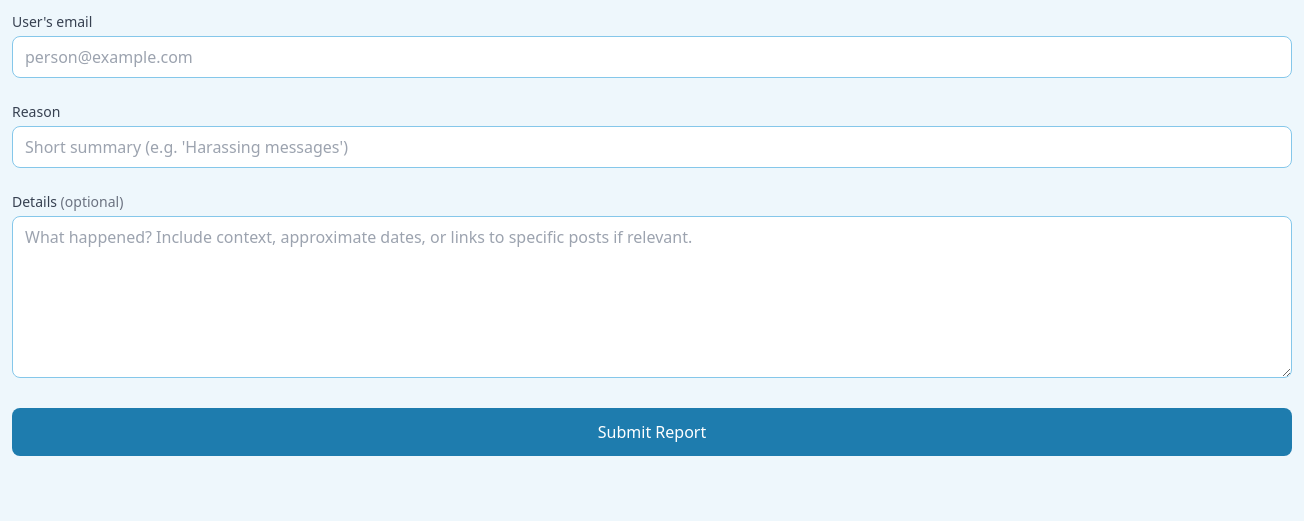
Test: ReportUserForm › shows validation errors for invalid email and missing reason
Type "not-an-email" into the field labelled "User's email". click: (652, 57)
box: [12,36,1292,78]
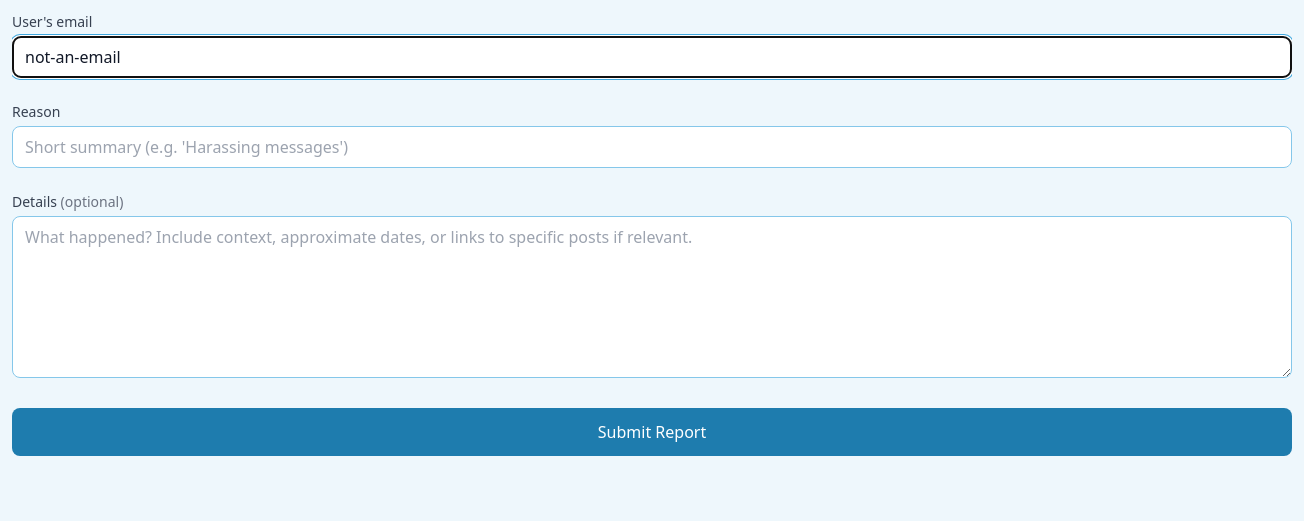
Click the button "Submit Report". click: (652, 432)
box: [12,408,1292,456]
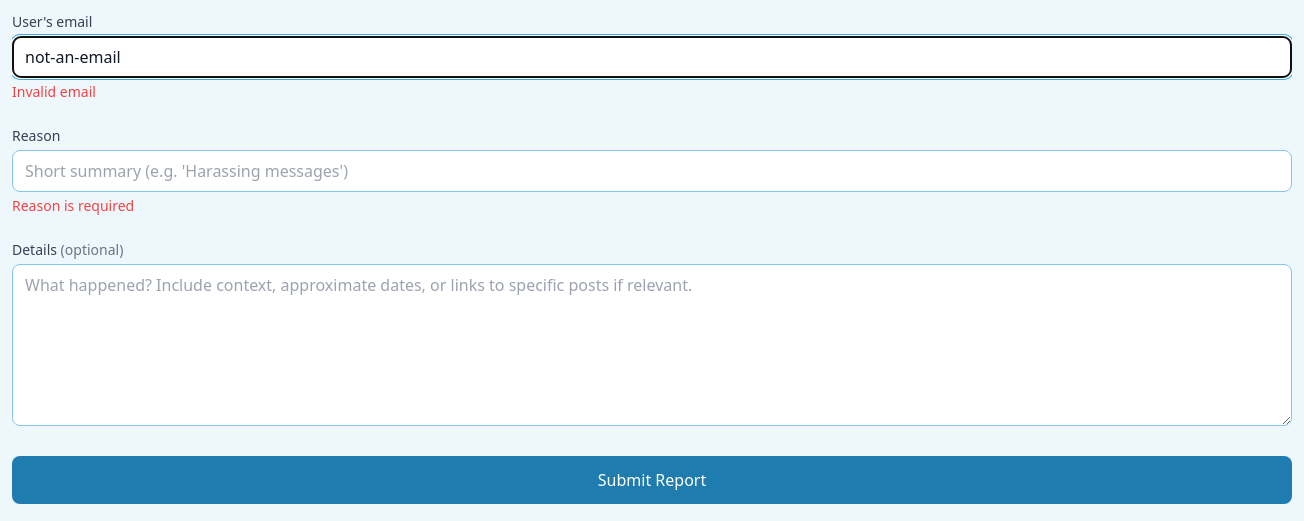
Now the text "Invalid email" is shown, box [12,82,96,101]
Now the text "Reason is required" is shown, box [12,196,134,215]
